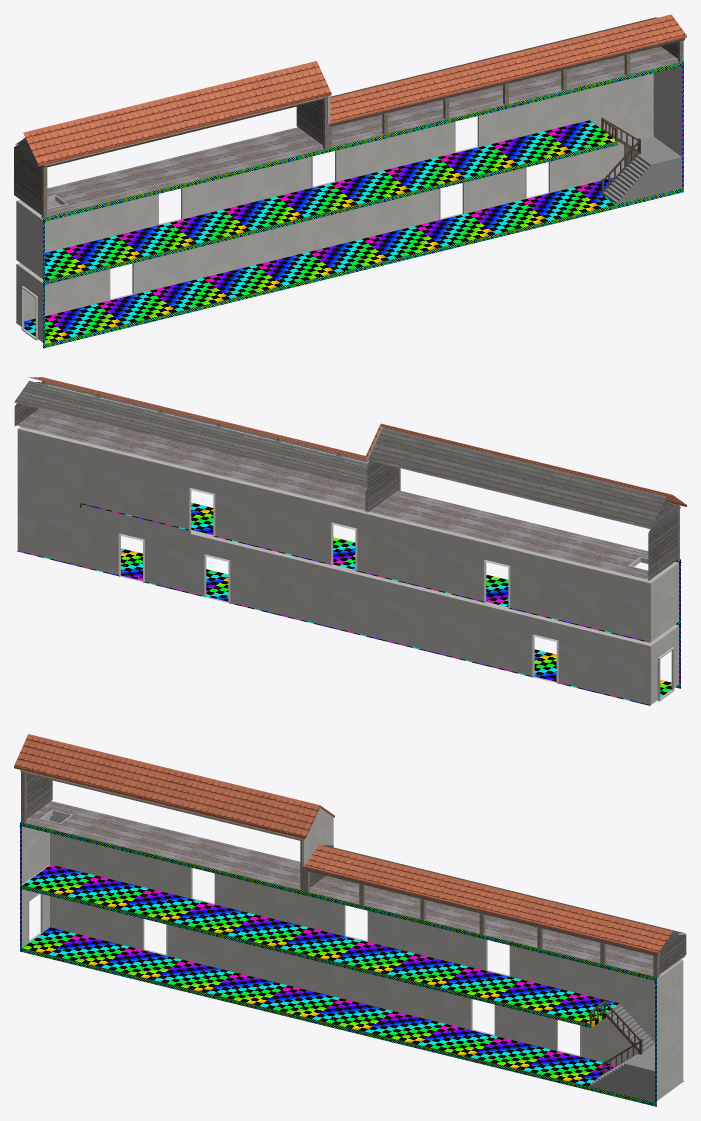
File: HausMid.FBX
3 views of the same model, one above another, from view 1: azimuth 30°, elevation 25°; view 2: azimuth 150°, elevation 25°; view 3: azimuth 330°, elevation 25° (orthographic).
Visible parts, largest first — view 1: MidRoof, MidUpperCorridorWall, MidLowerCorridorWall, MidLowerCorridorFloor, MidUpperCorridorFloor, MidAtticFloor, MidBeams, MidWoodBeams, MidAtticWall, MidLowerStair, MidLowerStairWallFront, MidDoorFrame (+2 smaller); view 2: MidUpperCorridorWall, MidLowerCorridorWall, MidAtticCeiling, MidAtticFloor, MidAtticWall, MidLowerCorridorFloor, MidRoof, MidUpperCorridorFloor, MidUpperCorridorCeiling, MidDoorFrame, MidLowerCorridorCeiling, MidWoodBeams; view 3: MidRoof, MidUpperCorridorWall, MidLowerCorridorWall, MidUpperCorridorFloor, MidLowerCorridorFloor, MidAtticFloor, MidBeams, MidWoodBeams, MidAtticWall, MidLowerStairWallFront, MidLowerStair, MidDoorFrame (+3 smaller).
Boxes of the visible parts, <box> form: MidRoof: <box>23,14,686,166</box>; MidUpperCorridorWall: <box>16,66,681,278</box>; MidLowerCorridorWall: <box>16,108,681,342</box>; MidLowerCorridorFloor: <box>16,177,630,343</box>; MidUpperCorridorFloor: <box>45,120,615,280</box>; MidAtticFloor: <box>45,46,683,217</box>; MidBeams: <box>43,62,683,348</box>; MidWoodBeams: <box>41,38,685,218</box>; MidAtticWall: <box>14,42,677,214</box>; MidLowerStair: <box>590,120,681,203</box>; MidLowerStairWallFront: <box>616,157,681,204</box>; MidDoorFrame: <box>109,115,550,300</box>; MidUpperCorridorWall: <box>17,429,678,642</box>; MidLowerCorridorWall: <box>17,492,678,704</box>; MidAtticCeiling: <box>14,380,665,529</box>; MidAtticFloor: <box>16,408,648,579</box>; MidAtticWall: <box>14,382,678,580</box>; MidLowerCorridorFloor: <box>17,548,671,705</box>; MidRoof: <box>28,377,686,506</box>; MidUpperCorridorFloor: <box>80,502,649,642</box>; MidUpperCorridorCeiling: <box>18,426,678,583</box>; MidDoorFrame: <box>118,488,558,683</box>; MidLowerCorridorCeiling: <box>191,531,678,646</box>; MidWoodBeams: <box>41,381,680,561</box>; MidRoof: <box>14,734,672,954</box>; MidUpperCorridorWall: <box>22,815,683,1041</box>; MidLowerCorridorWall: <box>22,889,683,1100</box>; MidUpperCorridorFloor: <box>23,864,619,1027</box>; MidLowerCorridorFloor: <box>22,927,683,1089</box>; MidAtticFloor: <box>22,801,685,977</box>; MidBeams: <box>19,822,656,1106</box>; MidWoodBeams: <box>20,770,660,978</box>; MidAtticWall: <box>26,774,686,973</box>; MidLowerStairWallFront: <box>590,1063,654,1102</box>; MidLowerStair: <box>590,1003,654,1084</box>; MidDoorFrame: <box>142,867,581,1056</box>.
Bounding box in the file's own units: 1354 × 413 × 116.
